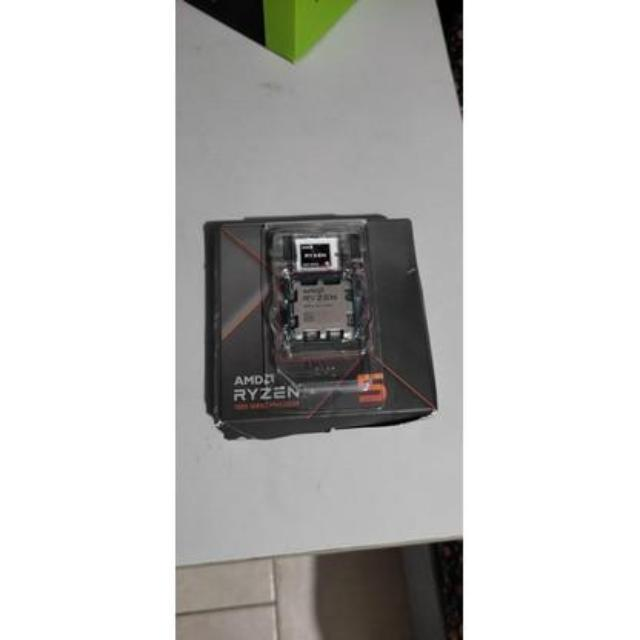CPU: (290, 282, 362, 342)
